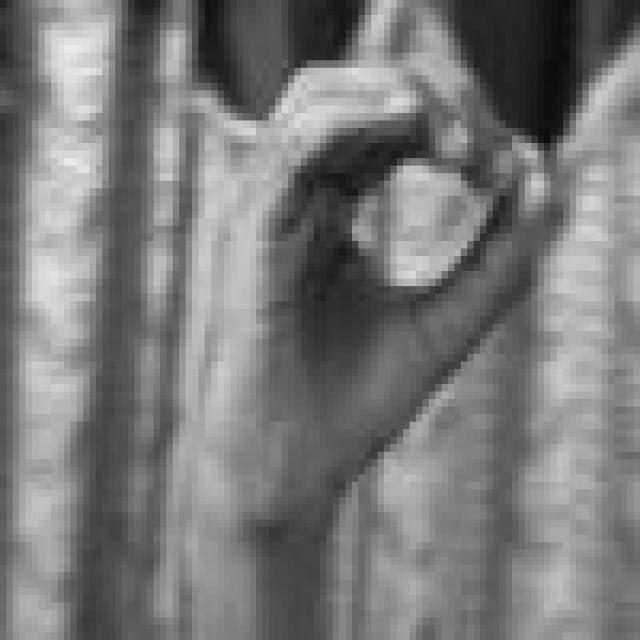O: (208, 53, 560, 542)
